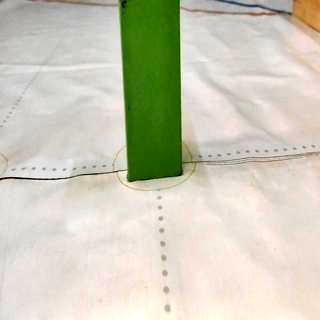greenbox: (119, 0, 184, 180)
